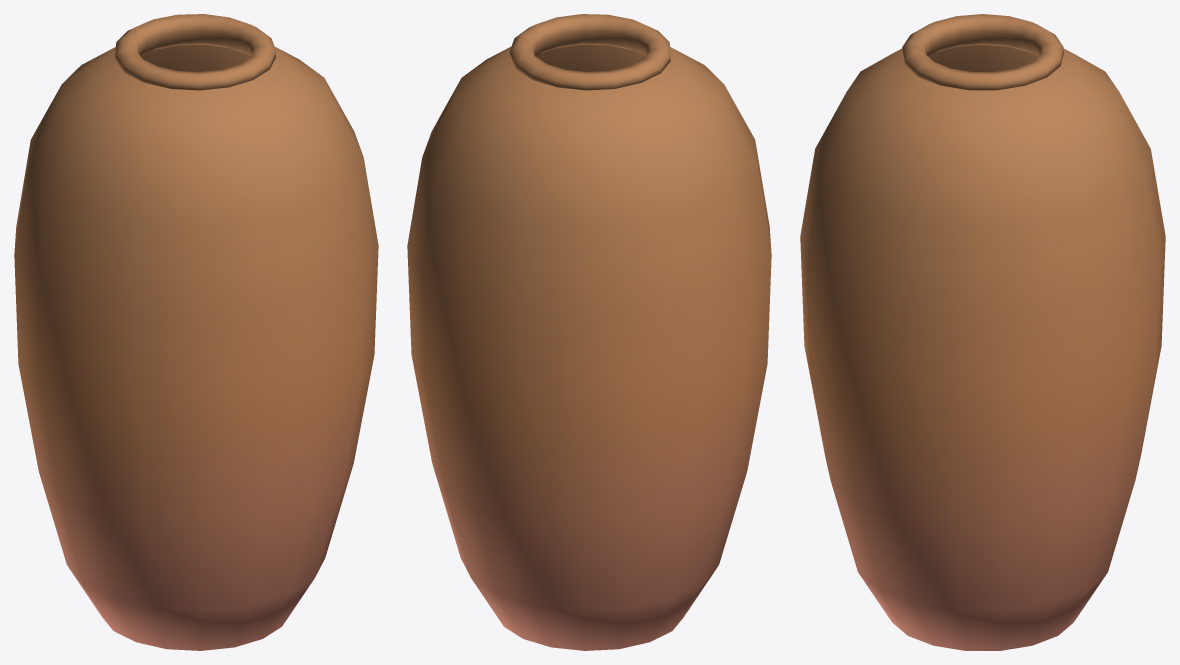
The model's file is Vase_Oval_Orange.fbx.
The picture shows the model from 3 angles, left to right: view 1: azimuth 30°, elevation 25°; view 2: azimuth 150°, elevation 25°; view 3: azimuth 270°, elevation 25°; orthographic projection.
Parts seen in each view (by area): view 1: Vase_Oval_Orange; view 2: Vase_Oval_Orange; view 3: Vase_Oval_Orange.
Boxes of the visible parts, x1,y1,x2,y2 form: Vase_Oval_Orange: (14,14,378,650); Vase_Oval_Orange: (407,14,771,650); Vase_Oval_Orange: (800,14,1165,650).
Bounding box in the file's own units: 68.68 × 121 × 68.98.
